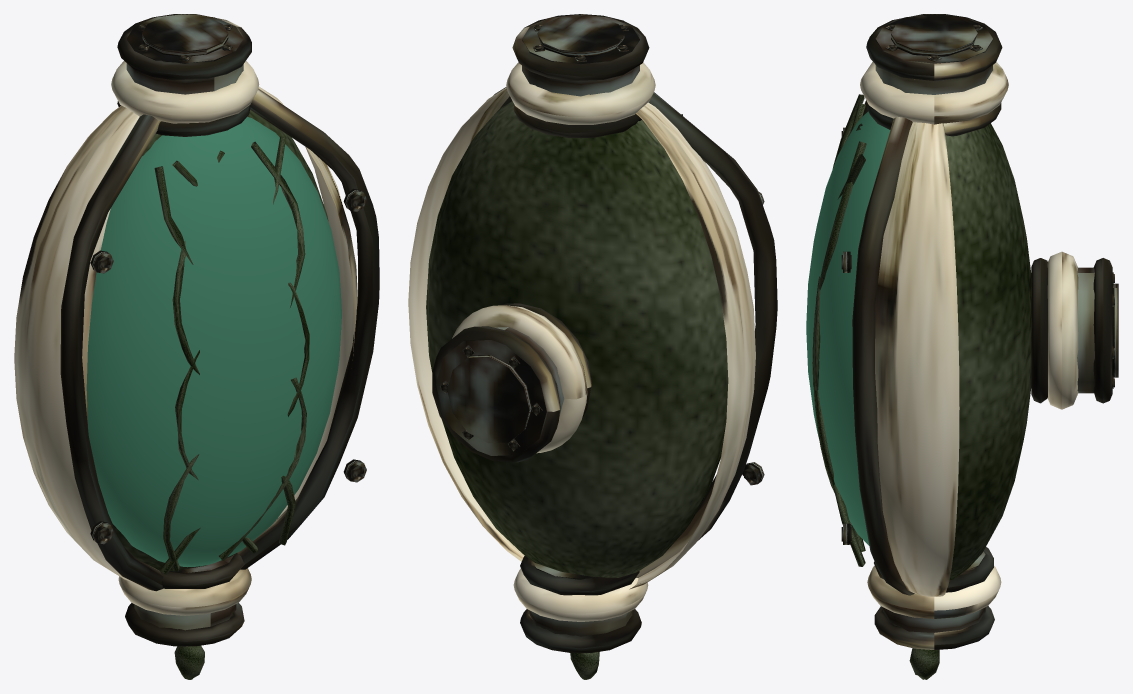
The model's file is organ-slime-icon-v1.glb.
The picture shows the model from 3 angles, left to right: view 1: azimuth 30°, elevation 25°; view 2: azimuth 150°, elevation 25°; view 3: azimuth 270°, elevation 25°; orthographic projection.
Parts seen in each view (by area): view 1: organ-slime-icon-v1-glass, organ-slime-icon-v1-ceramic, organ-slime-icon-v1-brass, organ-slime-icon-v1-olive, organ-slime-icon-v1-steel; view 2: organ-slime-icon-v1-olive, organ-slime-icon-v1-ceramic, organ-slime-icon-v1-brass, organ-slime-icon-v1-steel; view 3: organ-slime-icon-v1-ceramic, organ-slime-icon-v1-olive, organ-slime-icon-v1-brass, organ-slime-icon-v1-glass, organ-slime-icon-v1-steel.
Boxes of the visible parts, x1,y1,x2,y2 form: organ-slime-icon-v1-glass: [86, 116, 341, 567]; organ-slime-icon-v1-ceramic: [14, 60, 357, 615]; organ-slime-icon-v1-brass: [60, 14, 379, 646]; organ-slime-icon-v1-olive: [113, 110, 328, 679]; organ-slime-icon-v1-steel: [90, 14, 366, 646]; organ-slime-icon-v1-olive: [426, 101, 728, 679]; organ-slime-icon-v1-ceramic: [408, 62, 755, 621]; organ-slime-icon-v1-brass: [432, 14, 777, 653]; organ-slime-icon-v1-steel: [436, 14, 764, 636]; organ-slime-icon-v1-ceramic: [860, 61, 1078, 618]; organ-slime-icon-v1-olive: [812, 94, 1031, 679]; organ-slime-icon-v1-brass: [841, 14, 1114, 649]; organ-slime-icon-v1-glass: [806, 111, 890, 545]; organ-slime-icon-v1-steel: [843, 14, 1118, 632].
Size of the model in its own units: 0.5988 by 1.14 by 0.5.
3 materials, 2 textured.
